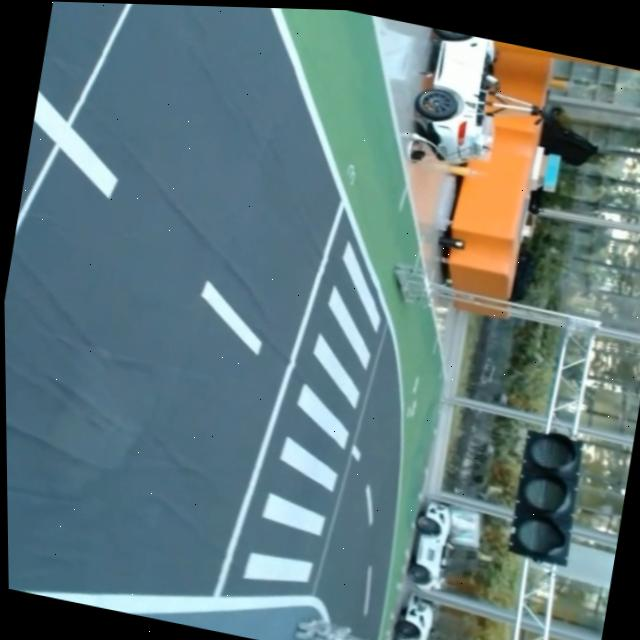traffic-light: (499, 419, 592, 573)
